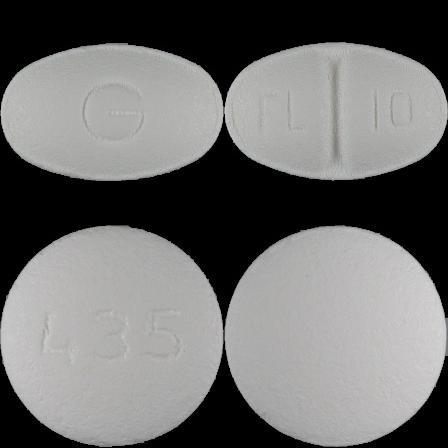54868-4560: (0, 0, 224, 224)
